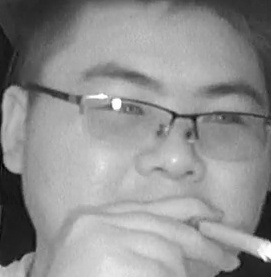eye: (201, 109, 242, 128)
glass: (81, 92, 176, 148), (194, 105, 267, 161)
